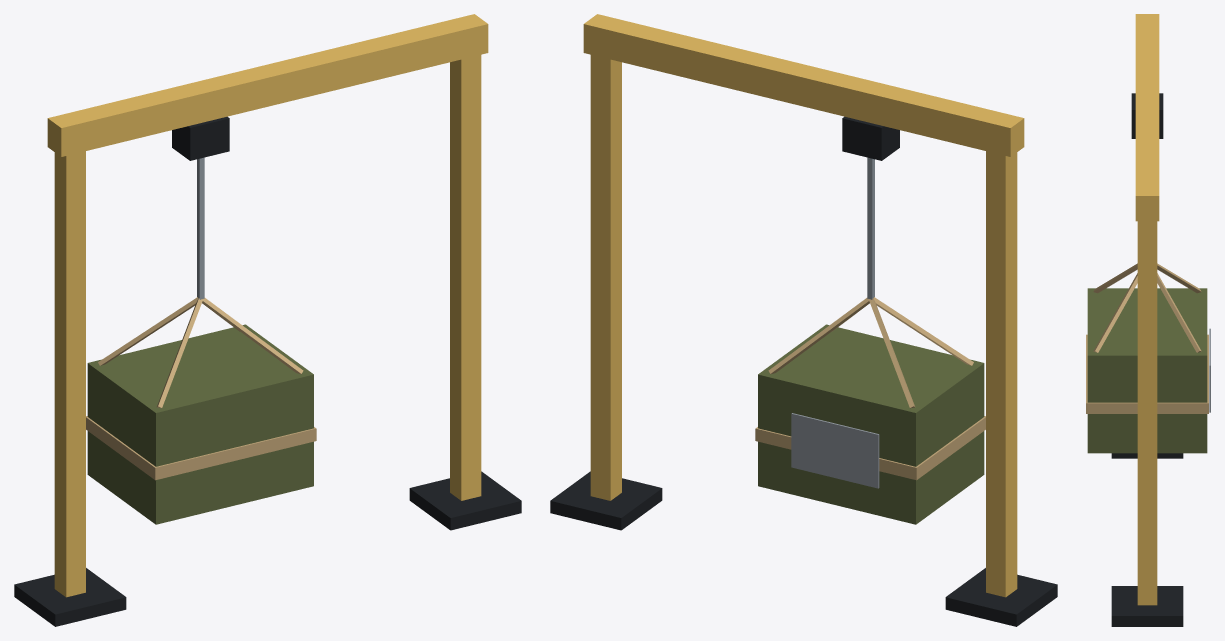
File: prop_carrier_hoist.fbx
3 renders of one model, left to right at view 1: azimuth 30°, elevation 25°; view 2: azimuth 150°, elevation 25°; view 3: azimuth 270°, elevation 25°, orthographic. The views are drawn at different scales.
Visible parts, largest first — view 1: prop_carrier_hoist; view 2: prop_carrier_hoist; view 3: prop_carrier_hoist.
Part boxes in pixels (box(x1,y1,x2,y2)): prop_carrier_hoist: box(14, 14, 521, 626); prop_carrier_hoist: box(550, 14, 1057, 626); prop_carrier_hoist: box(1086, 14, 1210, 626).
Bounding box in the file's own units: 1180 × 1170 × 313.
